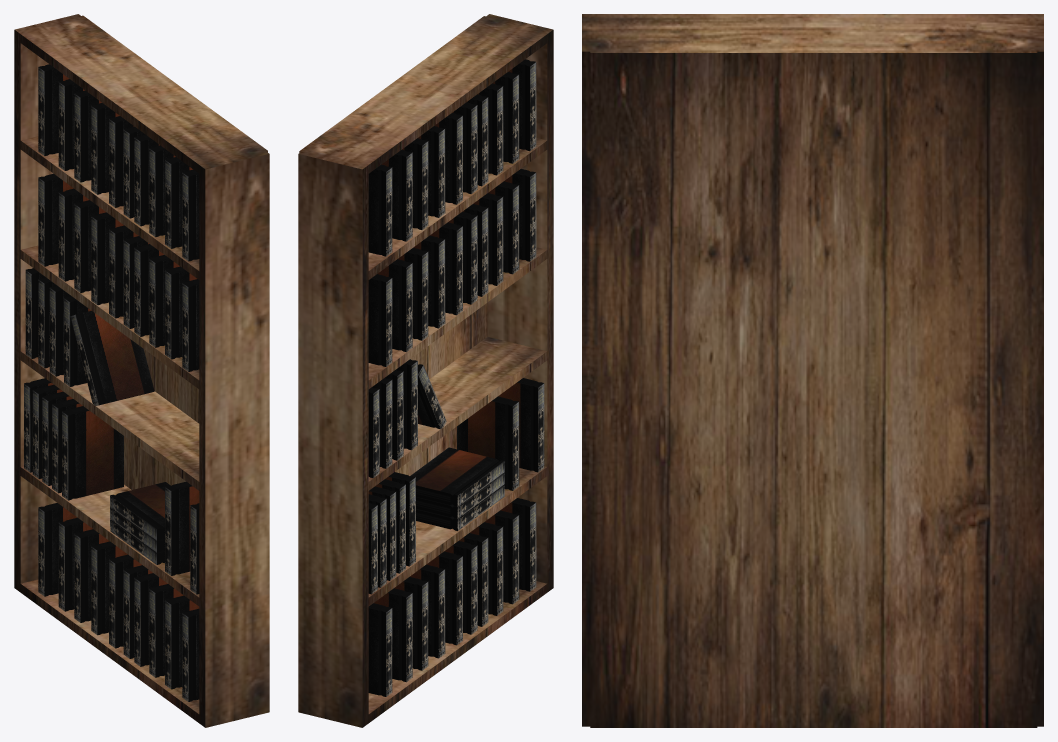
File: book-case.FBX
3 renders of one model, left to right at view 1: azimuth 30°, elevation 25°; view 2: azimuth 150°, elevation 25°; view 3: azimuth 270°, elevation 25°, orthographic. The views are drawn at different scales.
Parts seen in each view (by area): view 1: Box003; view 2: Box003; view 3: Box003.
Boxes of the visible parts, x1=… form: Box003: x1=14, y1=14, x2=269, y2=727; Box003: x1=298, y1=14, x2=553, y2=727; Box003: x1=582, y1=14, x2=1043, y2=727.
Bounding box in the file's own units: 30.95 × 250 × 155.
1 material, 1 textured.
